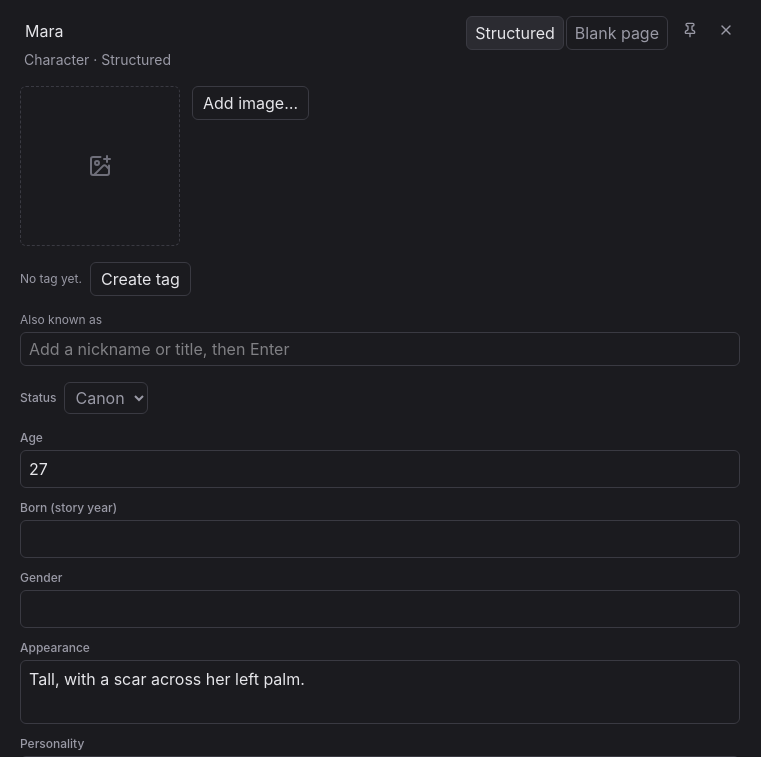
Scenario: EntityEditor (F-9.3) › edits the sheet´s aliases, which main writes on its tag when it has one (F-4.14)
The image size is (761, 757).
Step 1. Type "The Navigator" into the field named "Add alias" → [380, 349], box [20,332,740,366]
Then press Enter
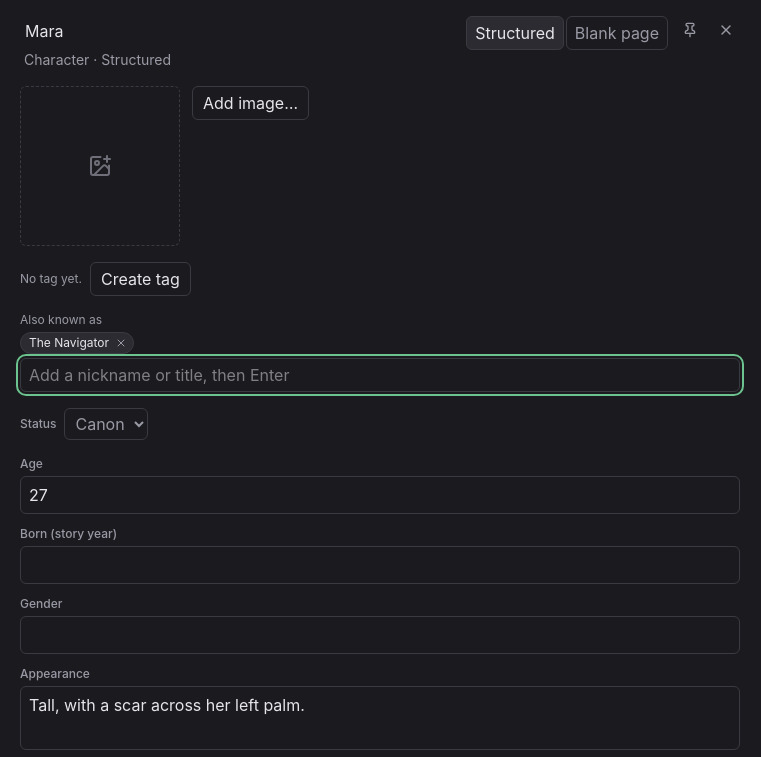
Check: the text "The Navigator" is shown, box [29,335,109,351]
